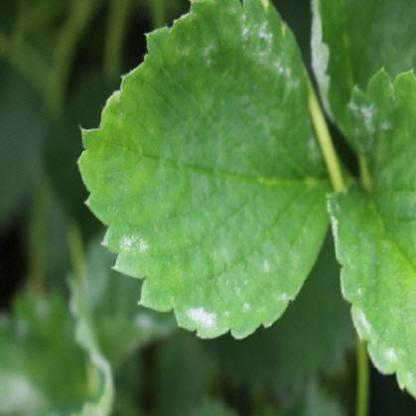Strawberry_Powdery_Mildew_Leaf: (75, 0, 349, 341), (325, 64, 415, 400), (308, 0, 415, 156)
